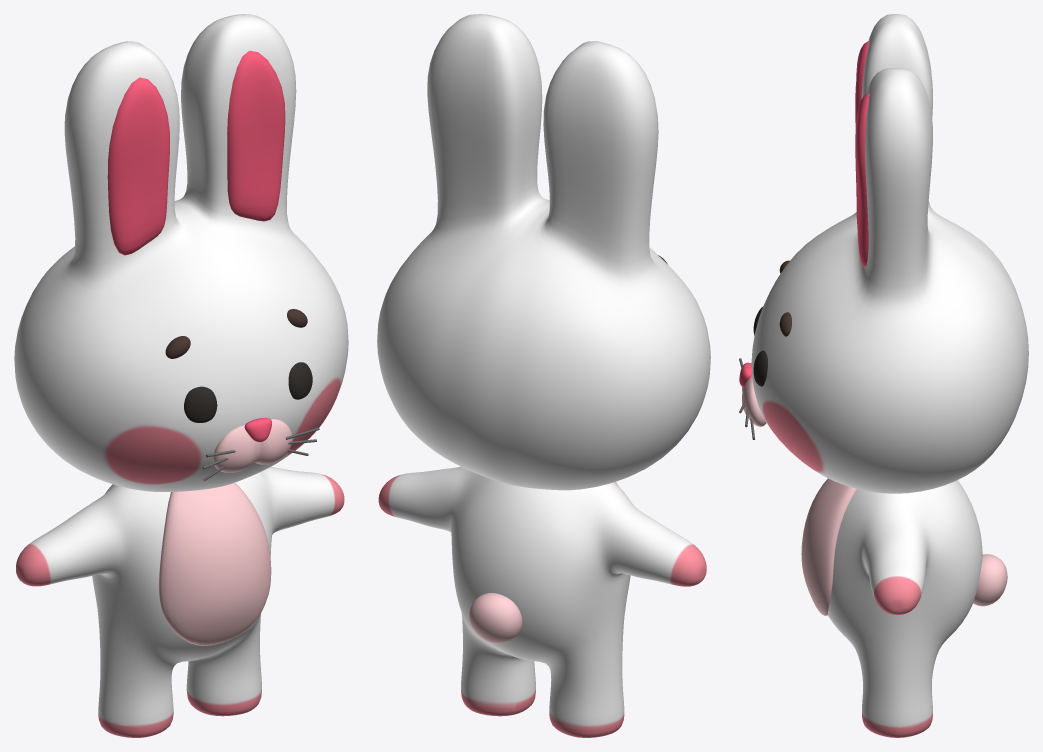
The model's file is bunny.glb.
The picture shows the model from 3 angles, left to right: view 1: azimuth 30°, elevation 25°; view 2: azimuth 150°, elevation 25°; view 3: azimuth 270°, elevation 25°; orthographic projection. The views are drawn at different scales.
Visible parts, largest first — view 1: Head_1, Body_2, Ear 2_4, body 2_5, mouth_3, eyes_6, eyebrow_9, moustache_8; view 2: Head_1, Body_2, tail_7; view 3: Head_1, Body_2, body 2_5, Ear 2_4, tail_7, mouth_3, eyes_6.
Boxes of the visible parts, <box> form: Head_1: <box>14,14,348,491</box>; Body_2: <box>16,467,344,737</box>; Ear 2_4: <box>107,50,285,255</box>; body 2_5: <box>159,482,271,645</box>; mouth_3: <box>213,419,292,472</box>; eyes_6: <box>184,362,312,422</box>; eyebrow_9: <box>165,309,307,358</box>; moustache_8: <box>202,427,319,480</box>; Head_1: <box>377,14,710,490</box>; Body_2: <box>378,466,706,737</box>; tail_7: <box>469,593,522,643</box>; Head_1: <box>751,14,1028,493</box>; Body_2: <box>827,480,982,737</box>; body 2_5: <box>801,478,856,615</box>; Ear 2_4: <box>855,41,869,267</box>; tail_7: <box>973,554,1007,606</box>; mouth_3: <box>742,362,766,426</box>; eyes_6: <box>753,307,767,386</box>.
Bounding box in the file's own units: 67.96 × 139 × 55.25.
Materials: 8 (4 with a texture image).
